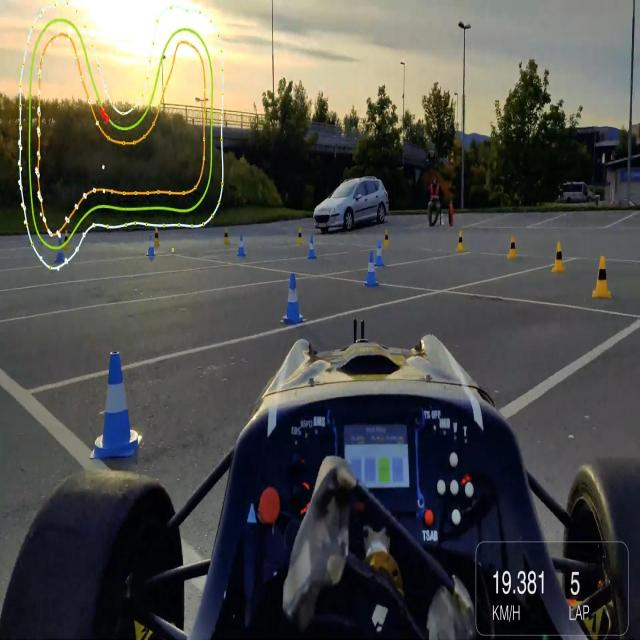blue_cone: (94, 350, 138, 459), (283, 274, 305, 324), (365, 249, 380, 288), (55, 237, 67, 265), (374, 240, 385, 267), (147, 232, 157, 258), (308, 236, 318, 259), (237, 233, 246, 258)
yellow_cone: (592, 255, 612, 298), (554, 242, 564, 272), (509, 234, 517, 258), (153, 227, 162, 248), (222, 227, 231, 246), (383, 228, 390, 249), (458, 230, 465, 251), (297, 226, 304, 246)
